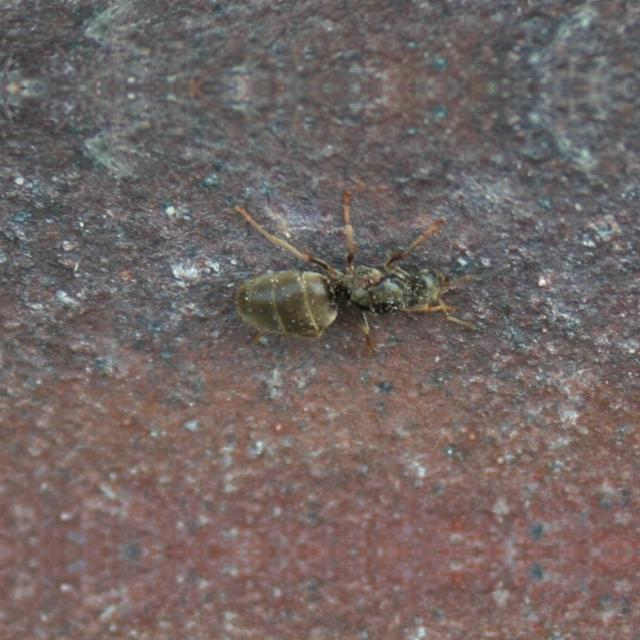Lasius: (216, 185, 508, 347)
